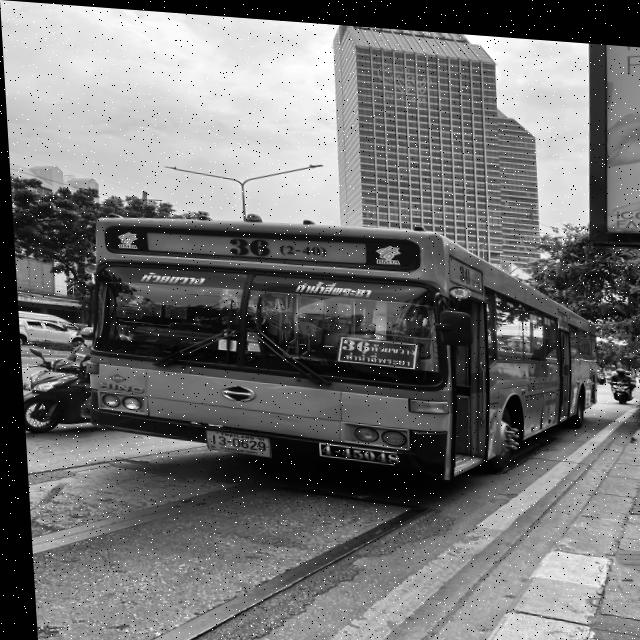BMTA-bus: (65, 204, 602, 487)
Bus-Line-Number: (210, 229, 335, 263)
Destination-Sign-Normal: (321, 329, 422, 367)
